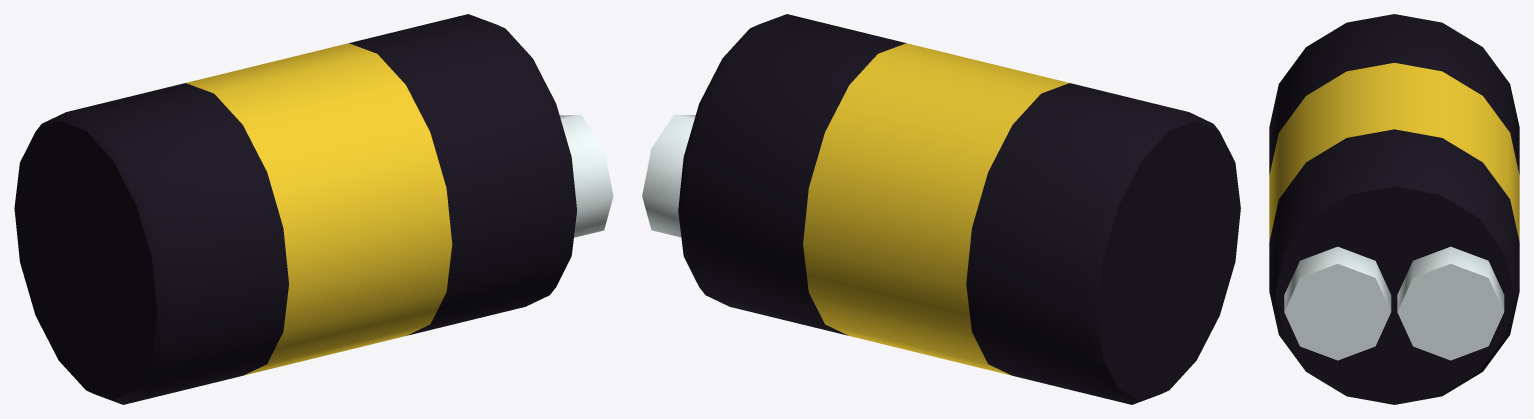
Rendered from battery.fbx.
3 views of the same model, side by side, from view 1: azimuth 30°, elevation 25°; view 2: azimuth 150°, elevation 25°; view 3: azimuth 270°, elevation 25° (orthographic). The views are drawn at different scales.
Parts seen in each view (by area): view 1: Heart; view 2: Heart; view 3: Heart.
Part boxes in pixels (x1,y1,x2,y2): Heart: [14, 14, 613, 404]; Heart: [642, 14, 1240, 404]; Heart: [1269, 14, 1519, 404].
Bounding box in the file's own units: 356 × 200 × 200.
